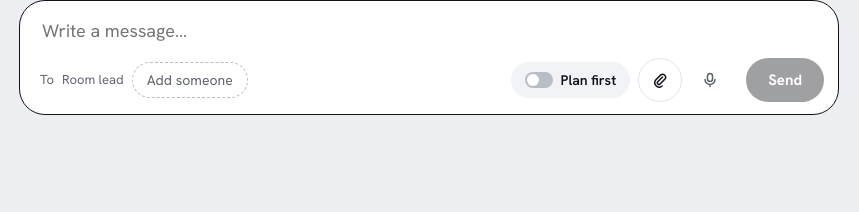
Test: voice: tapping again stops, and a blocked microphone is reported
The width and height of the screenshot is (859, 212).
Click the button named "Voice input": (710, 80) [690, 60, 730, 100]
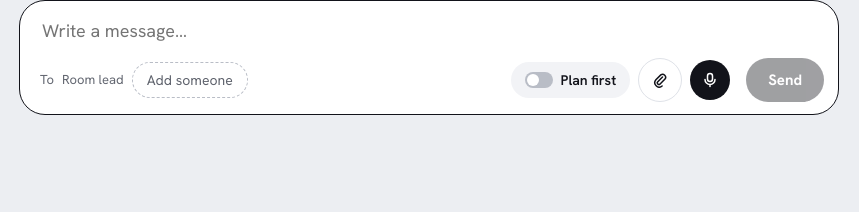
Click the button named "Voice input": (710, 80) [690, 60, 730, 100]
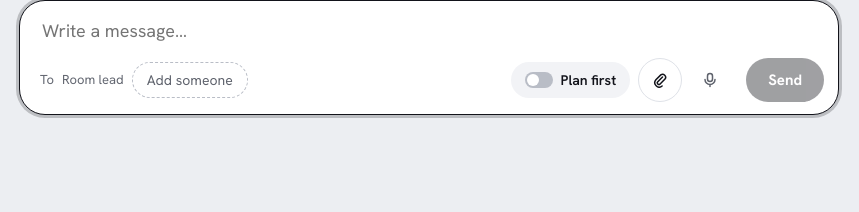
expect the button named "Voice input" is not pressed: met
Click the button named "Voice input": (710, 80) [690, 60, 730, 100]
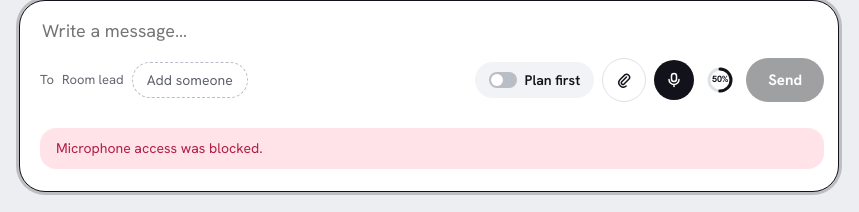
expect the message reads "Microphone access was blocked.": met, box [56, 139, 262, 157]
